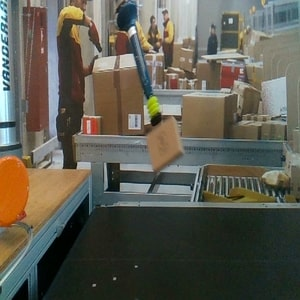box: (146, 117, 186, 176)
